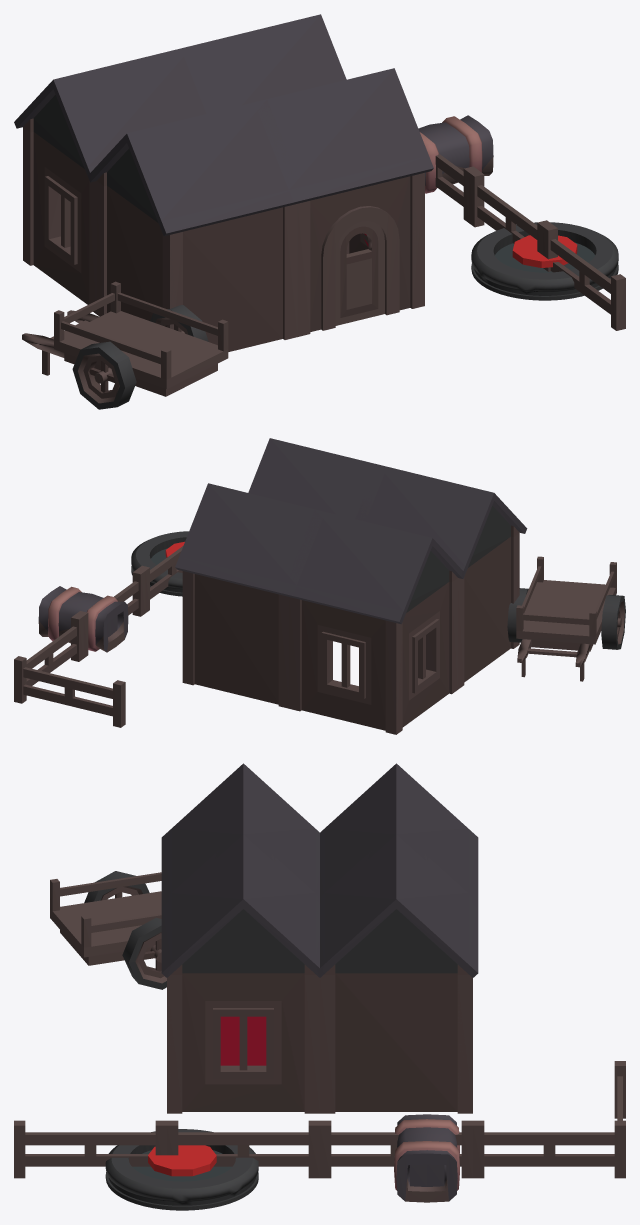
File: bloodfarm_l2.glb
3 views of the same model, one above another, from view 1: azimuth 30°, elevation 25°; view 2: azimuth 150°, elevation 25°; view 3: azimuth 270°, elevation 25° (orthographic). The views are drawn at different scales.
Parts seen in each view (by area): view 1: bloodfarm_l2; view 2: bloodfarm_l2; view 3: bloodfarm_l2.
Boxes of the visible parts, bbox=[...] form: bloodfarm_l2: bbox=[14, 14, 625, 409]; bloodfarm_l2: bbox=[14, 438, 625, 734]; bloodfarm_l2: bbox=[14, 763, 625, 1210].
Bounding box in the file's own units: 7.9 × 2.84 × 7.24.
